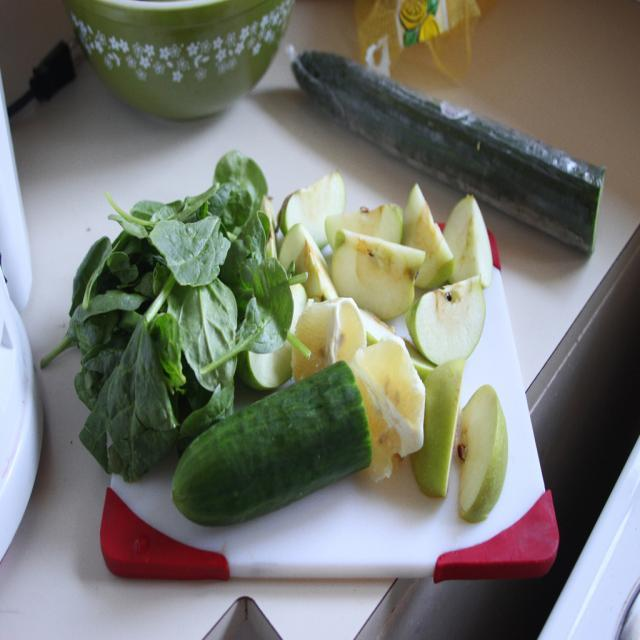Zucchini: (292, 47, 604, 259), (187, 368, 395, 536)
